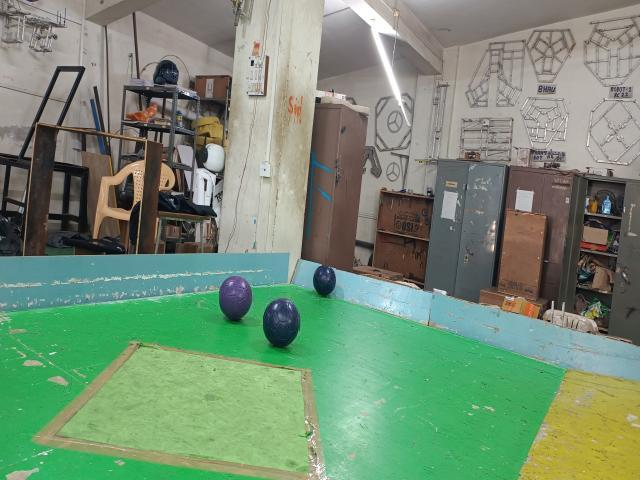jambhalya: (220, 276, 253, 319)
kaalyya: (264, 299, 299, 348), (313, 266, 336, 296)
